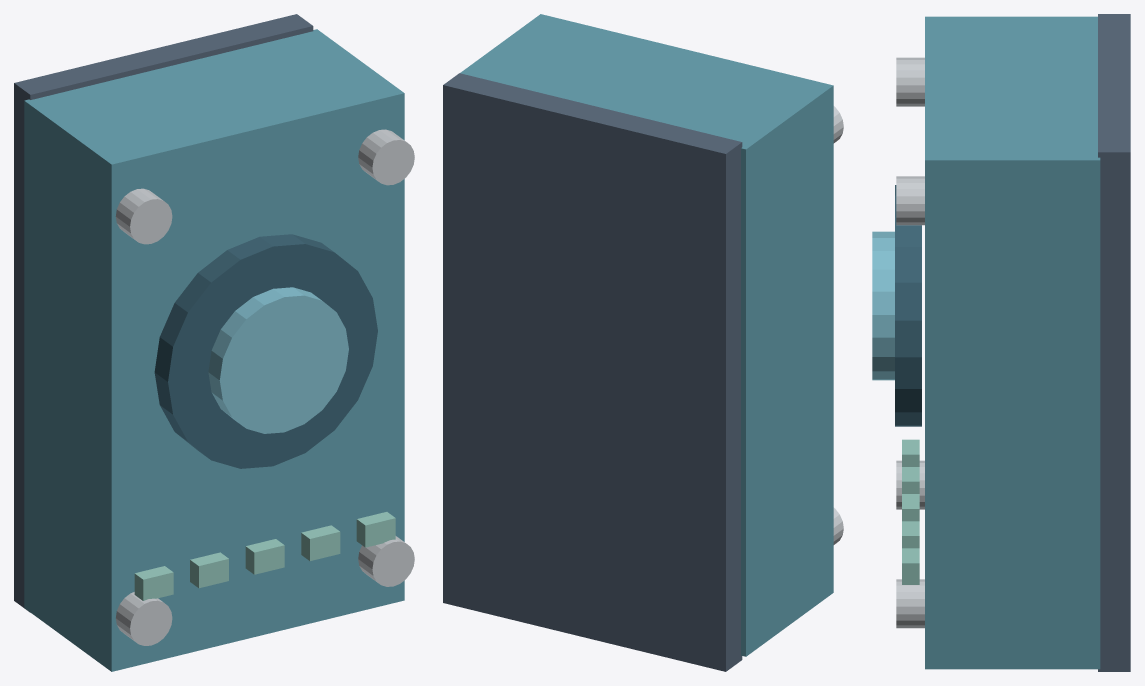
The model's file is sat_payload_module.glb.
3 renders of one model, left to right at view 1: azimuth 30°, elevation 25°; view 2: azimuth 150°, elevation 25°; view 3: azimuth 270°, elevation 25°, orthographic.
Parts seen in each view (by area): view 1: subsystem_case, sensor_lens, sensor_glass, mounting_backplane, mount_0.12_0.19, mount_-0.12_0.19, mount_-0.12_-0.19, mount_0.12_-0.19, status_2, status_3, status_4, status_0 (+1 smaller); view 2: mounting_backplane, subsystem_case; view 3: subsystem_case, mounting_backplane, sensor_lens, sensor_glass, mount_-0.12_0.19, mount_0.12_0.19, mount_0.12_-0.19, status_4, mount_-0.12_-0.19, status_0, status_2, status_3 (+1 smaller).
Part boxes in pixels (<box>): subsystem_case: <box>24,29,404,671</box>; sensor_lens: <box>154,234,377,468</box>; sensor_glass: <box>208,287,348,433</box>; mounting_backplane: <box>14,14,313,612</box>; mount_0.12_0.19: <box>358,129,414,185</box>; mount_-0.12_0.19: <box>115,188,172,244</box>; mount_-0.12_-0.19: <box>115,592,172,645</box>; mount_0.12_-0.19: <box>358,536,414,586</box>; status_2: <box>245,539,284,574</box>; status_3: <box>301,525,340,560</box>; status_4: <box>356,512,395,547</box>; status_0: <box>134,566,173,600</box>; mounting_backplane: <box>443,73,742,671</box>; subsystem_case: <box>460,14,833,656</box>; subsystem_case: <box>925,16,1100,669</box>; mounting_backplane: <box>1098,14,1130,671</box>; sensor_lens: <box>895,185,921,426</box>; sensor_glass: <box>872,231,894,380</box>; mount_-0.12_0.19: <box>896,57,924,106</box>; mount_0.12_0.19: <box>896,176,924,225</box>; mount_0.12_-0.19: <box>896,579,924,628</box>; status_4: <box>902,548,919,584</box>; mount_-0.12_-0.19: <box>896,460,924,509</box>; status_0: <box>902,439,919,466</box>; status_2: <box>902,494,919,521</box>; status_3: <box>902,521,919,548</box>.
Bounding box in the file's own units: 0.29 × 0.49 × 0.221.
